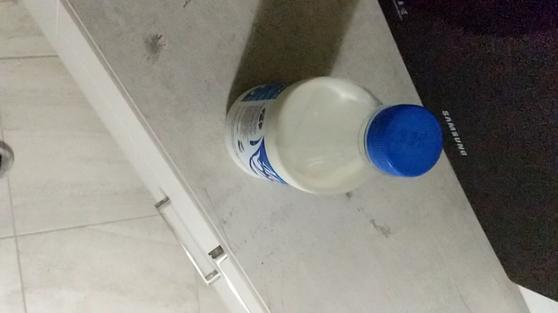milk: (194, 62, 461, 199)
